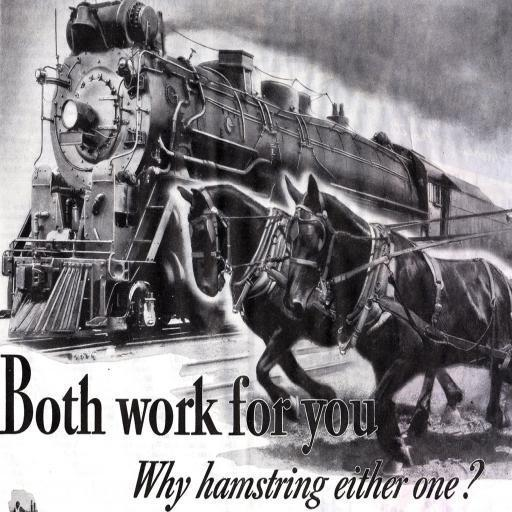horse: (176, 184, 464, 442), (282, 170, 512, 478)
